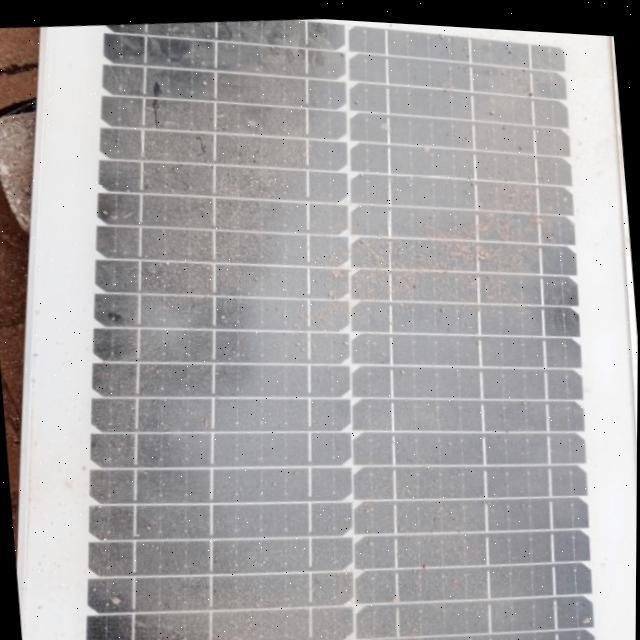Surface Contaminant: (62, 16, 633, 640)
